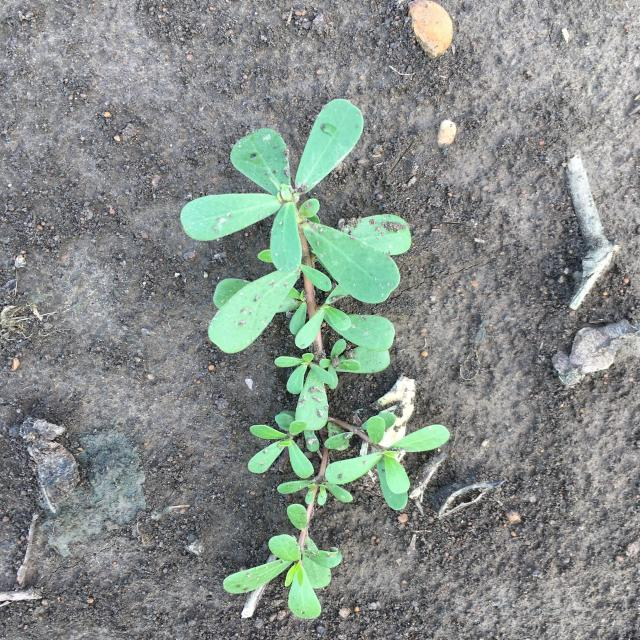Purslane: (180, 98, 451, 620)
